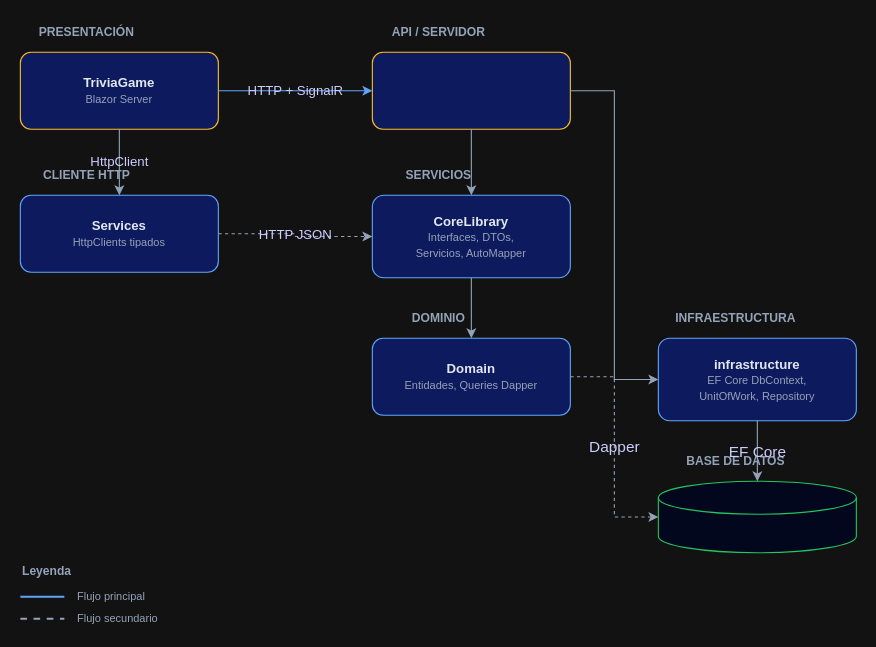
Some shapes in this 876 by 647 pixel diagram are drawn without their labels. The shapes that lost their labels are listed below. From the top down, each one's centre as x and y in pixels, then its label:
the point at 470,90: TriviaGameApi ASP.NET Core Web API
the point at 756,516: SQL Server TriviaGameDb
